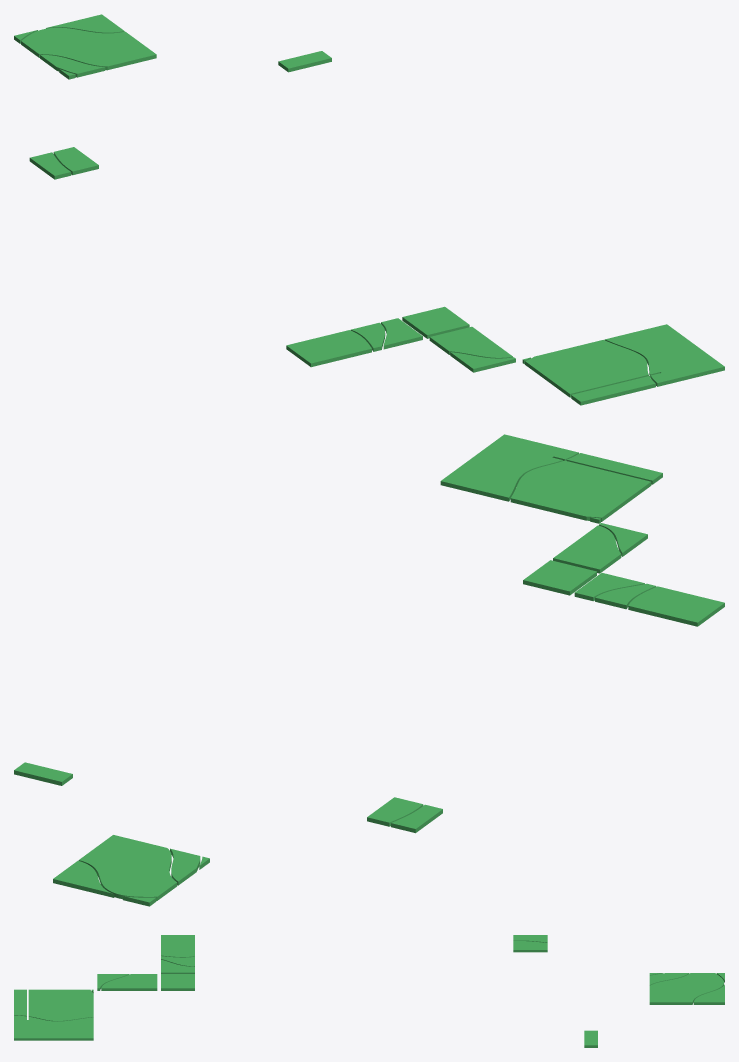
The model's file is big_parks.glb.
3 views of the same model, one above another, from view 1: azimuth 30°, elevation 25°; view 2: azimuth 150°, elevation 25°; view 3: azimuth 270°, elevation 25° (orthographic). The views are drawn at different scales.
Parts seen in each view (by area): view 1: world; view 2: world; view 3: world.
Boxes of the visible parts, left/top/right/bottom form: world: left=14, top=14, right=724, bottom=405; world: left=14, top=434, right=724, bottom=906; world: left=14, top=935, right=724, bottom=1047.
Bounding box in the file's own units: 91.91 × 1 × 250.
